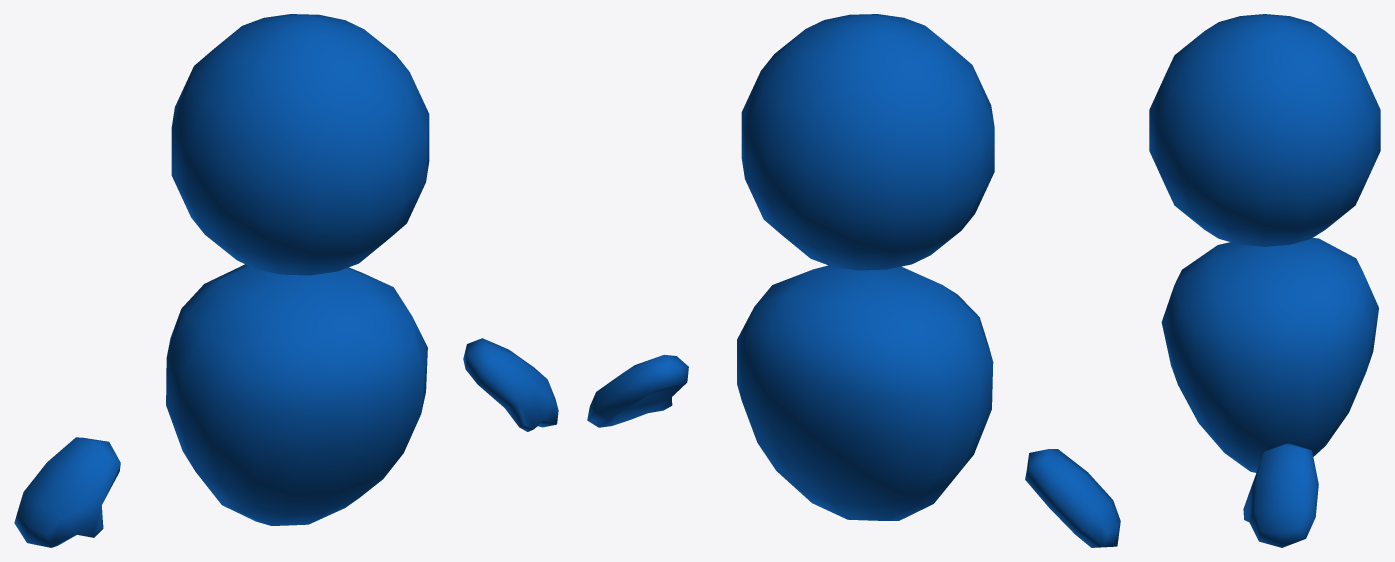
Rendered from GenericAvatar.fbx.
3 renders of one model, left to right at view 1: azimuth 30°, elevation 25°; view 2: azimuth 150°, elevation 25°; view 3: azimuth 270°, elevation 25°, orthographic. The views are drawn at different scales.
Visible parts, largest first — view 1: Body, RightHand, LeftHand; view 2: Body, RightHand, LeftHand; view 3: Body, LeftHand.
Part boxes in pixels (bbox=[...]): Body: bbox=[166, 14, 429, 525]; RightHand: bbox=[14, 437, 120, 547]; LeftHand: bbox=[463, 338, 558, 431]; Body: bbox=[737, 14, 994, 520]; RightHand: bbox=[1025, 449, 1120, 547]; LeftHand: bbox=[587, 354, 688, 427]; Body: bbox=[1149, 14, 1380, 472]; LeftHand: bbox=[1243, 443, 1318, 547].
Size of the model in its own units: 0.6967 by 0.6312 by 0.2972.
